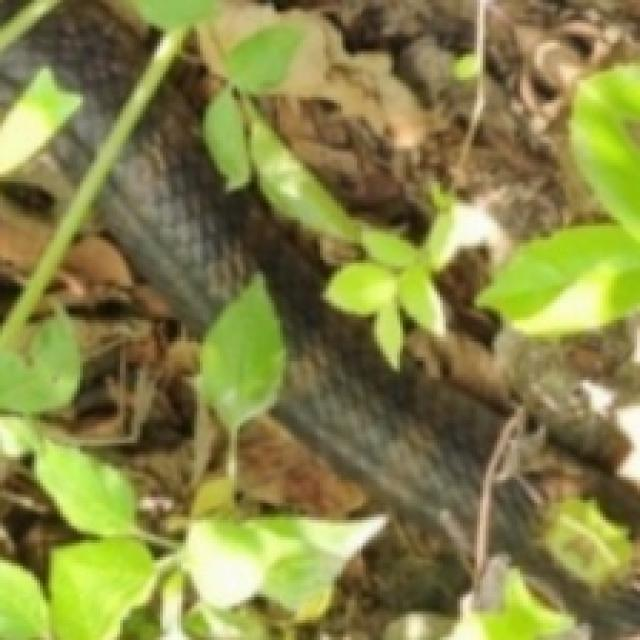king cobra: (31, 0, 637, 637), (177, 269, 389, 623), (0, 0, 157, 317), (0, 454, 89, 597)
